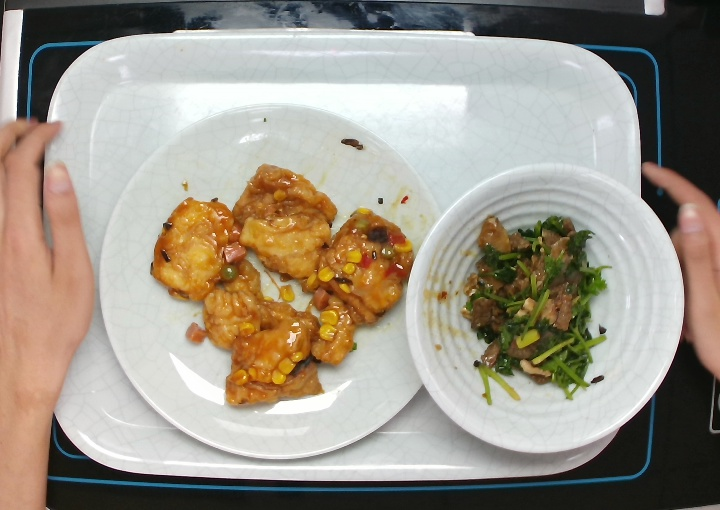JYsf-Da_Yuan_Pan: (95, 104, 449, 462)
JYsf-Xiao_Tang_Wan: (402, 158, 687, 452)
